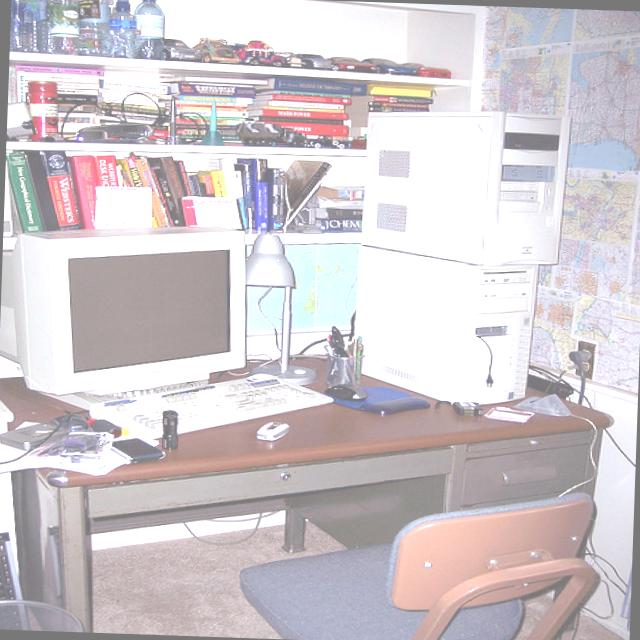Vehicle: (192, 37, 242, 63), (242, 38, 288, 66), (161, 37, 199, 61), (360, 56, 416, 72), (399, 61, 451, 78), (326, 56, 379, 72), (288, 52, 332, 68)
